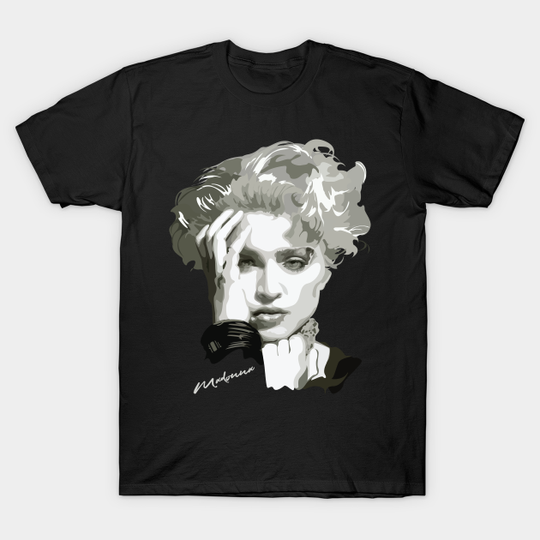design: (166, 135, 374, 397)
